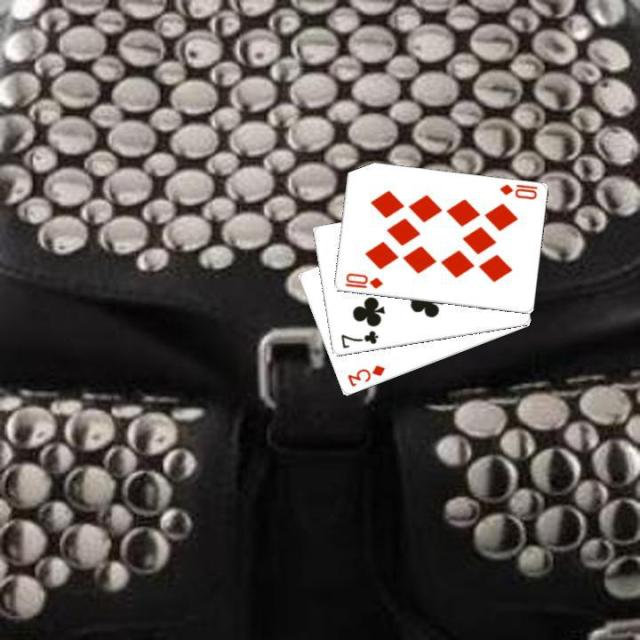10D: (495, 180, 540, 202), (341, 269, 384, 291)
3D: (343, 362, 387, 389)
7C: (337, 327, 379, 350)
